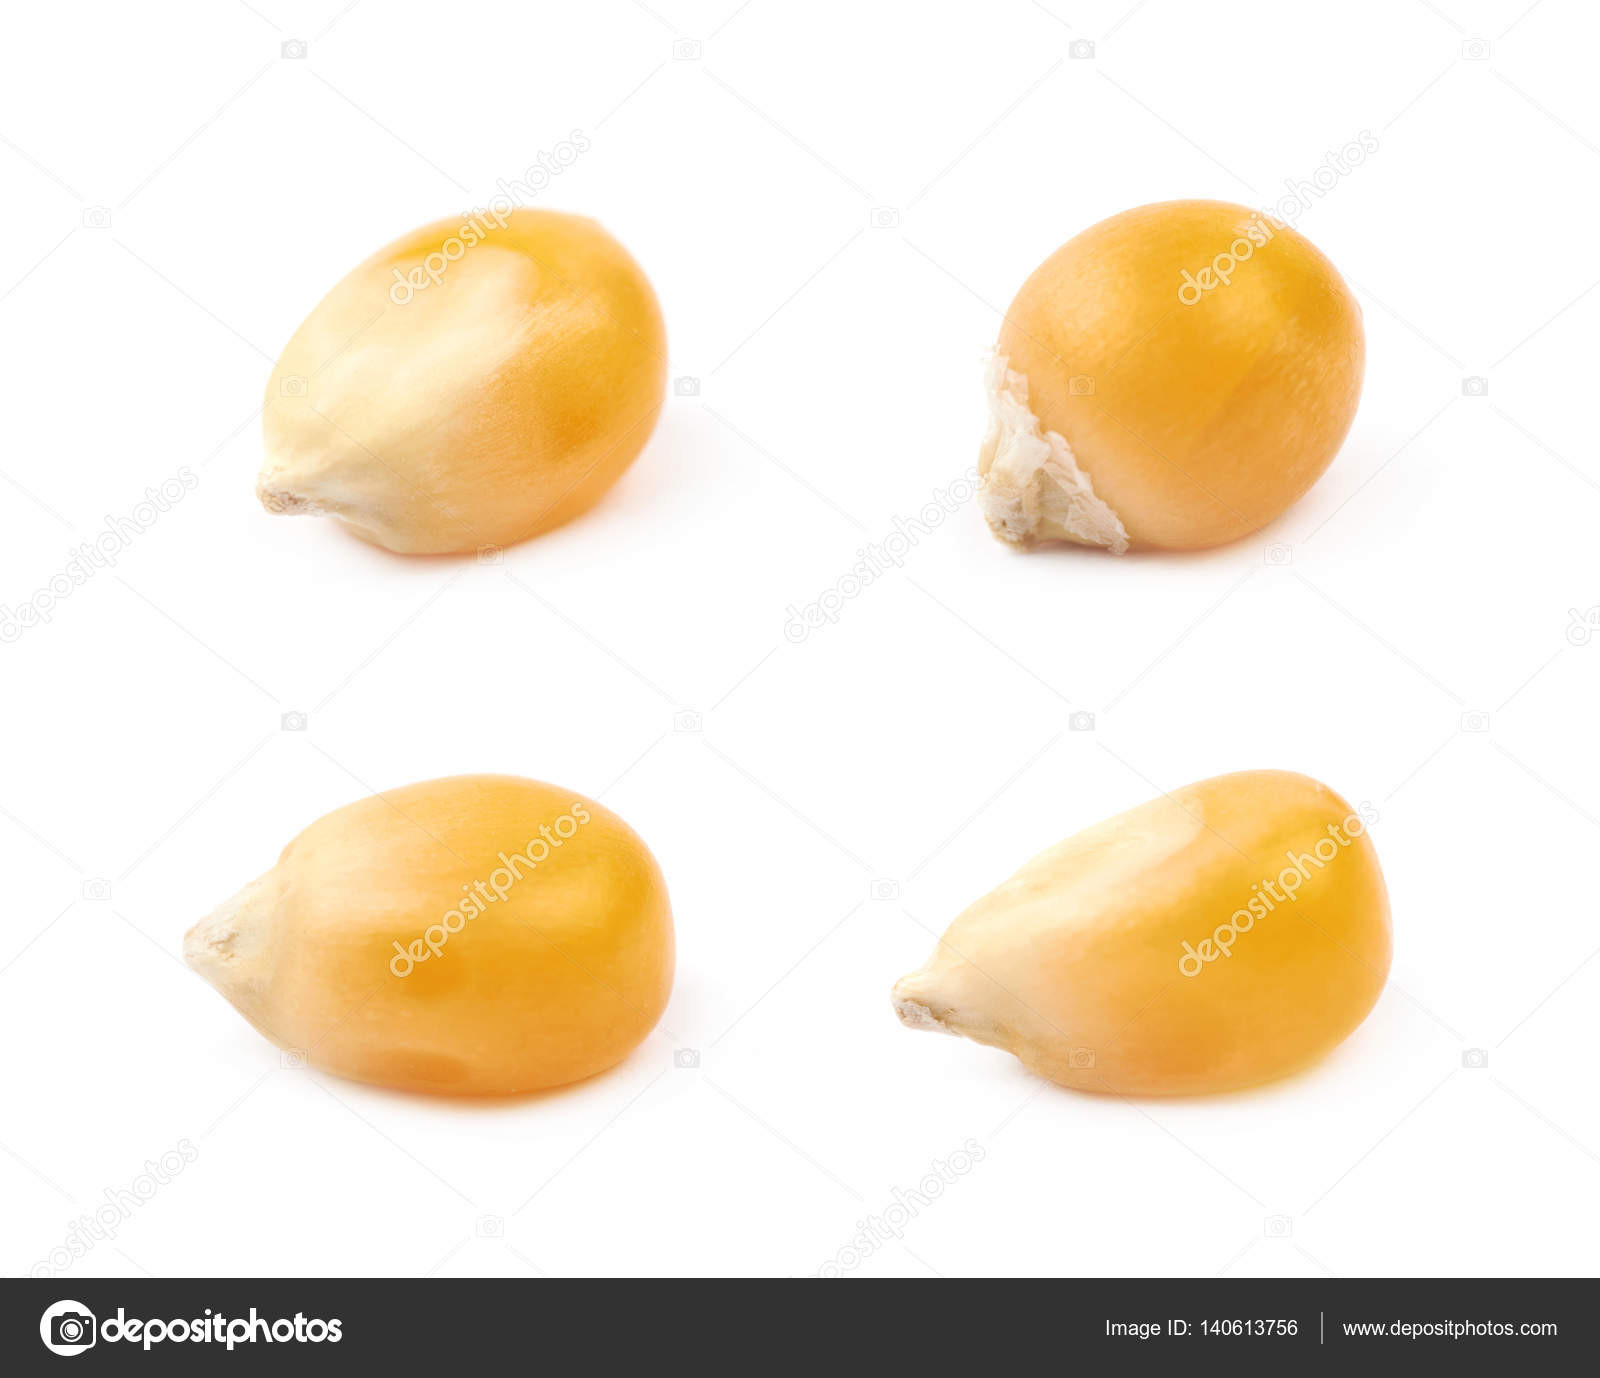corn: (180, 779, 679, 1107), (902, 771, 1384, 1102), (257, 212, 675, 562), (970, 201, 1361, 566)
